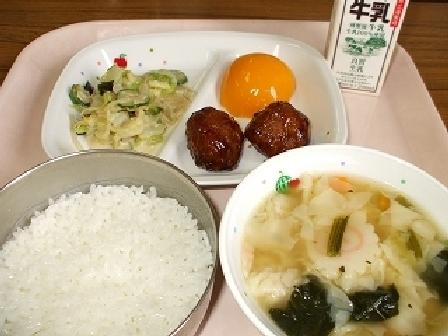Milk: (316, 0, 414, 95)
Rice: (2, 154, 213, 335)
Salad: (62, 54, 191, 158)
Soups: (235, 148, 440, 335)
cutlet: (184, 100, 311, 170)
peach: (215, 49, 301, 117)
